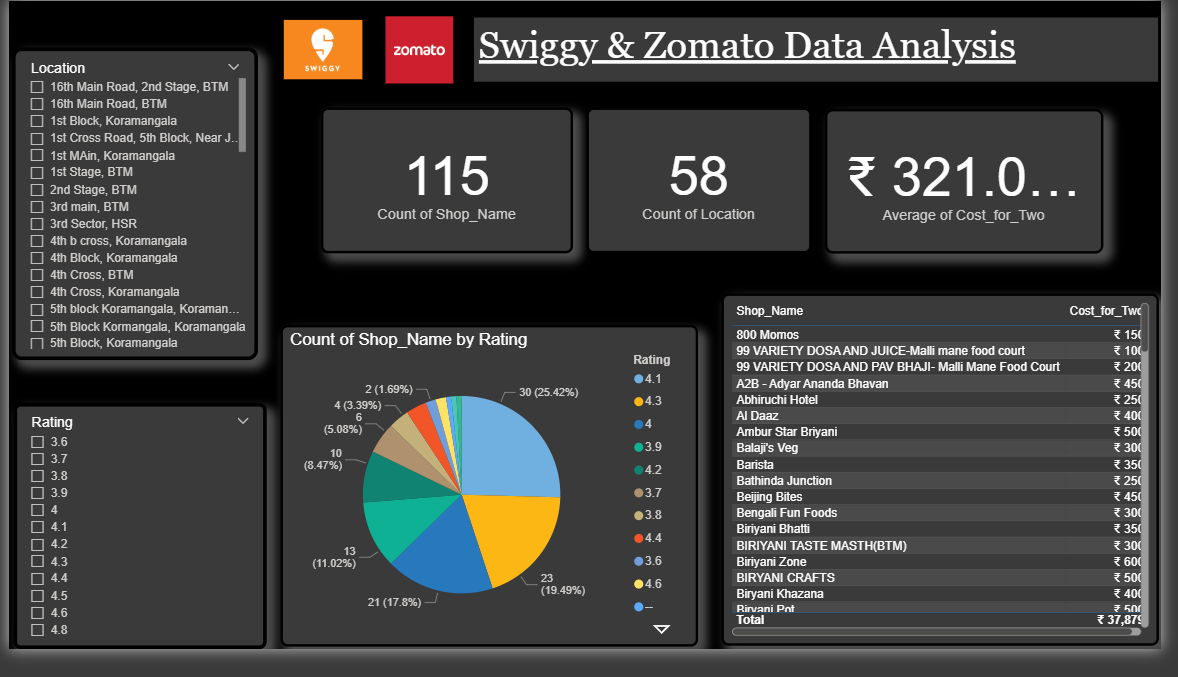

What the dashboard file says about the page in this screenshot:
{"tool":"powerbi","page":{"name":"Page 1","canvas":[1280,720],"ordinal":0},"visuals":[{"type":"card","fields":{"Values":["Count(Swiggy Bangalore Outlet Details.Shop_Name)"]},"box":[347.5,118.1,280.2,162.1],"z":0},{"type":"card","fields":{"Values":["Count(Swiggy Bangalore Outlet Details.Location)"]},"box":[641.4,118.1,250,162.1],"z":1000},{"type":"textbox","box":[516.4,18.6,759.9,71.3],"z":2000},{"type":"slicer","fields":{"Values":["Swiggy Bangalore Outlet Details.Location"]},"box":[4.1,52.2,273.3,347.5],"z":3000},{"type":"slicer","fields":{"Values":["Swiggy Bangalore Outlet Details.Rating"]},"box":[5,447,281,273],"z":4000},{"type":"card","fields":{"Values":["Avg(Swiggy Bangalore Outlet Details.Cost_for_Two)"]},"box":[906.4,119.5,309,160.7],"z":5000},{"type":"tableEx","fields":{"Values":["Swiggy Bangalore Outlet Details.Shop_Name","Sum(Swiggy Bangalore Outlet Details.Cost_for_Two)"]},"box":[791.1,325.5,486.2,391.4],"z":6000},{"type":"pieChart","fields":{"Category":["Swiggy Bangalore Outlet Details.Rating"],"Y":["CountNonNull(Swiggy Bangalore Outlet Details.Shop_Name)"]},"box":[302.1,359.8,464.2,357.1],"z":7000},{"type":"image","box":[299.3,4.7,97.7,97.7],"z":8000},{"type":"image","box":[411,10.9,88.4,85.3],"z":9000}]}

Visuals, with their boxes in screenshot pixels (x1, y1, x2, y2), scaled from the page's 1280x720 canvas onto the 1178x677 screenshot:
card - Count(Swiggy Bangalore Outlet Details.Shop_Name): bbox=[320, 111, 578, 263]
card - Count(Swiggy Bangalore Outlet Details.Location): bbox=[590, 111, 820, 263]
textbox: bbox=[475, 17, 1175, 85]
slicer - Swiggy Bangalore Outlet Details.Location: bbox=[4, 49, 255, 376]
slicer - Swiggy Bangalore Outlet Details.Rating: bbox=[5, 420, 263, 676]
card - Avg(Swiggy Bangalore Outlet Details.Cost_for_Two): bbox=[834, 112, 1119, 263]
tableEx - Swiggy Bangalore Outlet Details.Shop_Name x Sum(Swiggy Bangalore Outlet Details.Cost_for_Two): bbox=[728, 306, 1176, 674]
pieChart - Swiggy Bangalore Outlet Details.Rating x CountNonNull(Swiggy Bangalore Outlet Details.Shop_Name): bbox=[278, 338, 705, 674]
image: bbox=[275, 4, 365, 96]
image: bbox=[378, 10, 460, 90]
